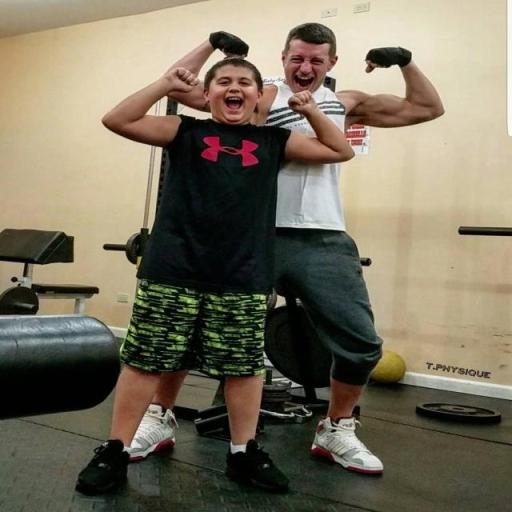Under Armour: (198, 135, 261, 167)
